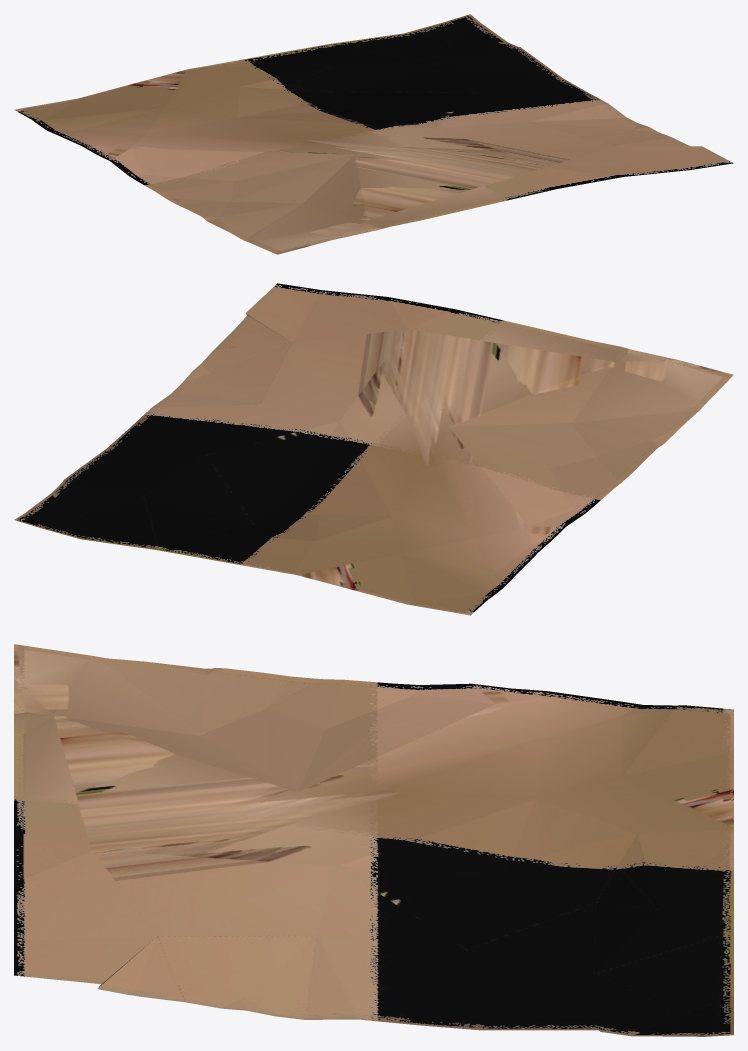
3 renders of one model, top to bottom at view 1: azimuth 30°, elevation 25°; view 2: azimuth 150°, elevation 25°; view 3: azimuth 270°, elevation 25°, orthographic. The views are drawn at different scales.
Bounding box in the file's own units: 2.09 × 0.303 × 2.09.
Materials: 3 (3 with a texture image).
